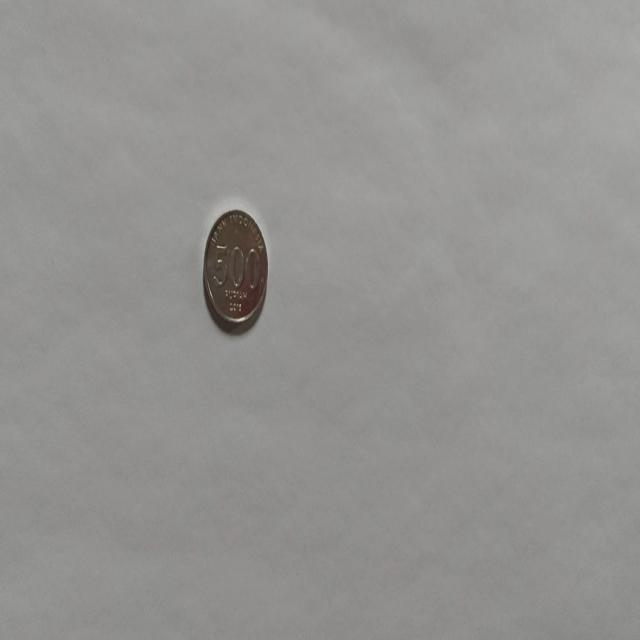lima ratus rupiah: (202, 207, 268, 334)
